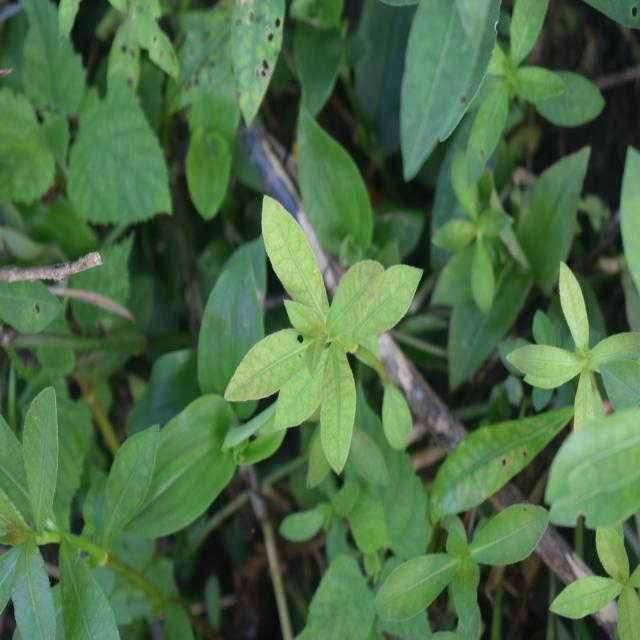Alligatorweed: (237, 184, 423, 493), (0, 391, 157, 633)
